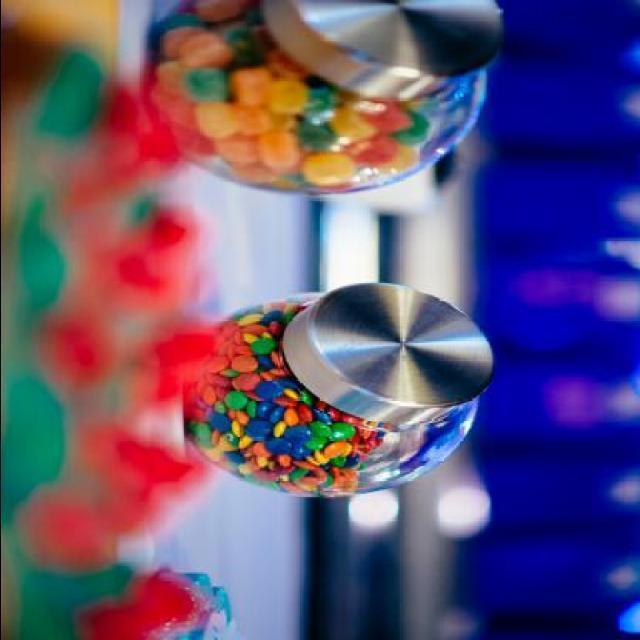Candy: (154, 12, 477, 192), (177, 296, 406, 500)
